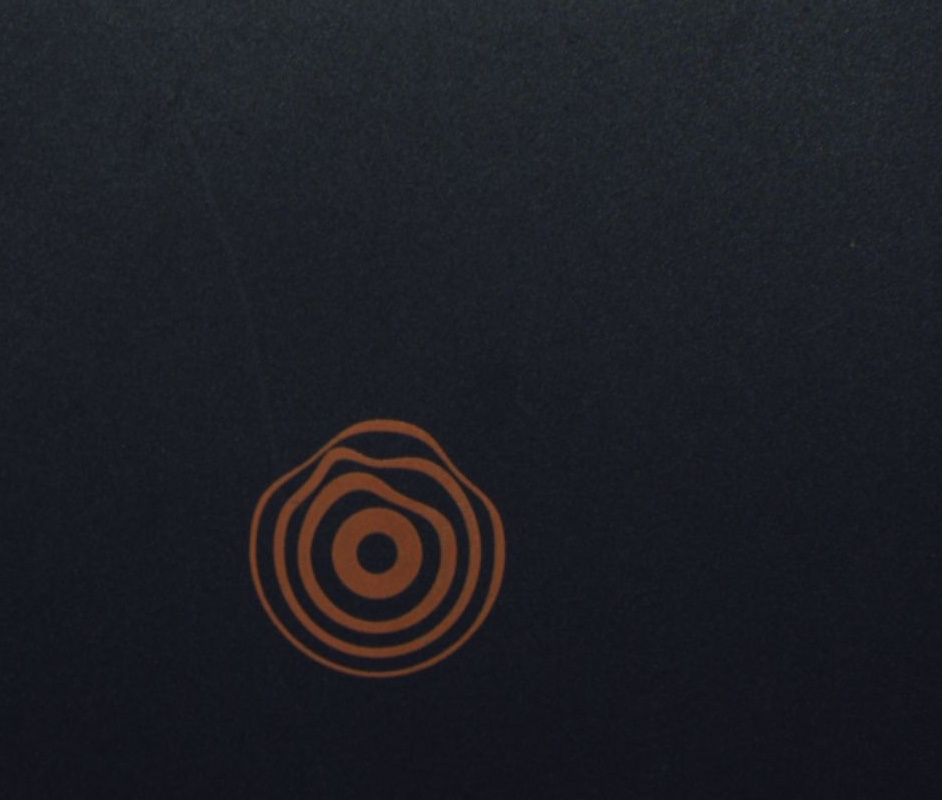BU_HG680GY: (232, 415, 510, 683)
